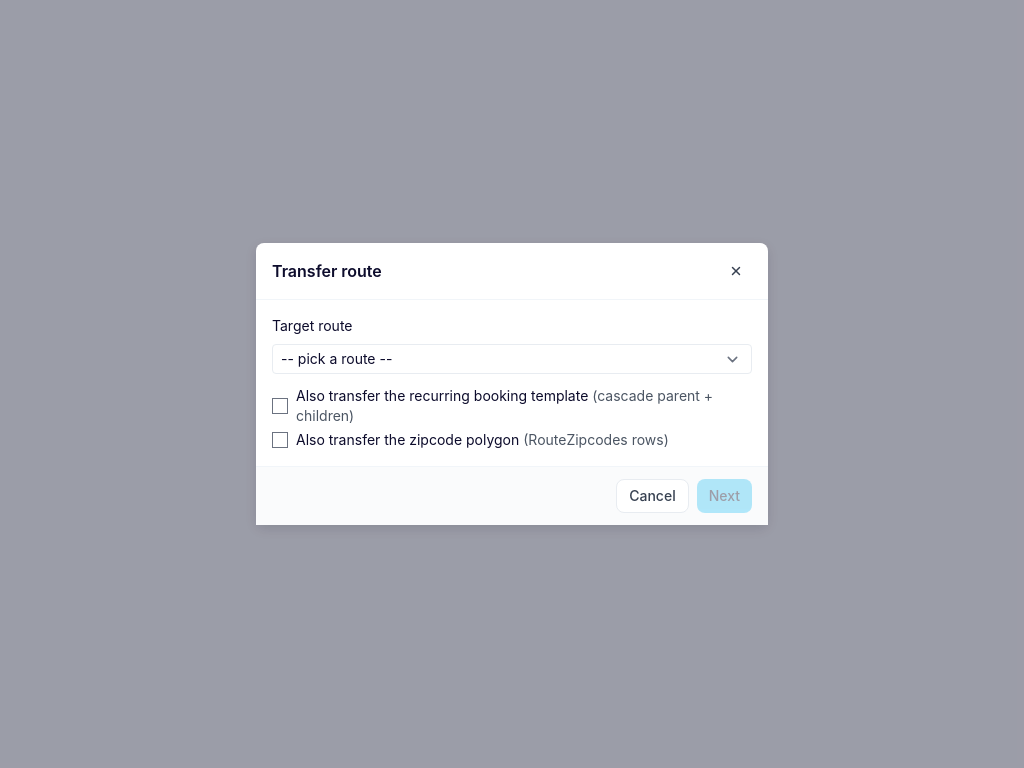
Test case: TransferRouteDialog › surfaces error on transfer POST 500
Select "North" in the dropdown at (512, 359), box [272,344,752,374]
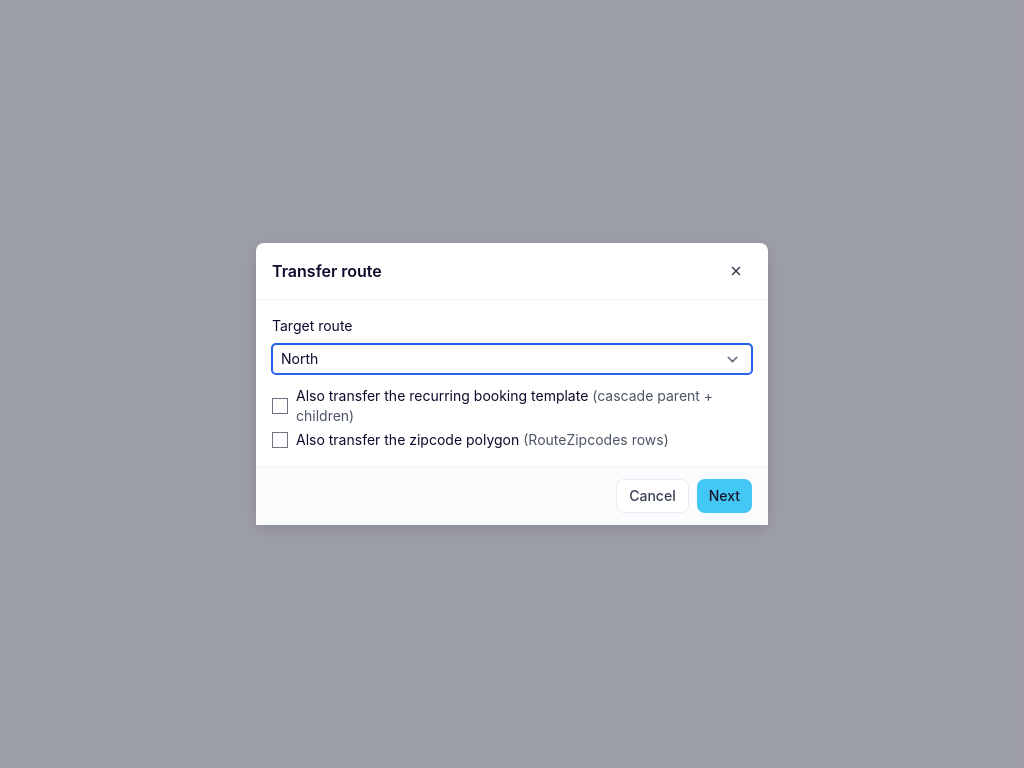
Click the button "Next" at (724, 496), box [697,479,752,513]
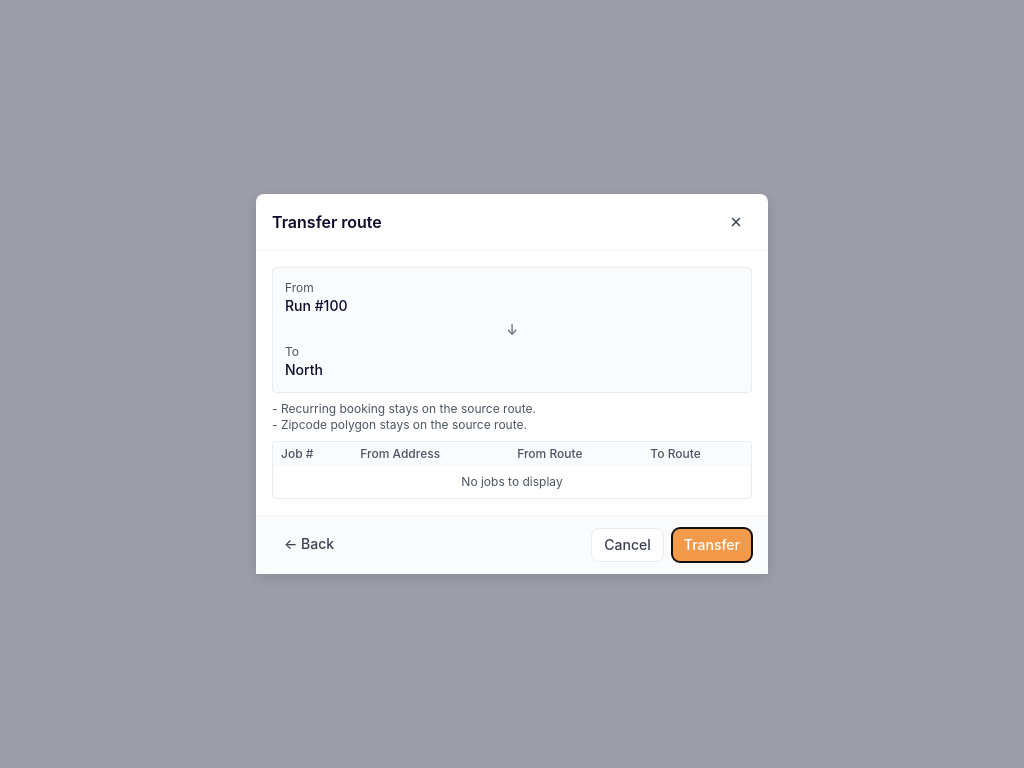
Click the button "Transfer" at (712, 545), box [672,528,752,562]
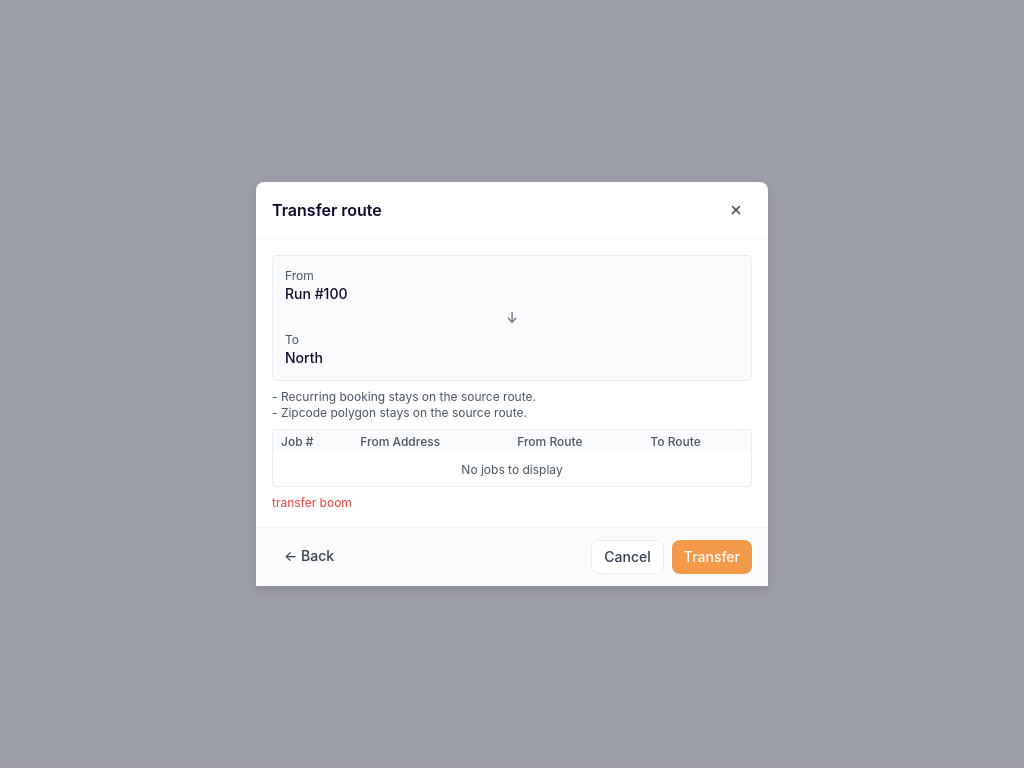
Expected: the text "transfer boom" is shown, [272,495,352,510]
